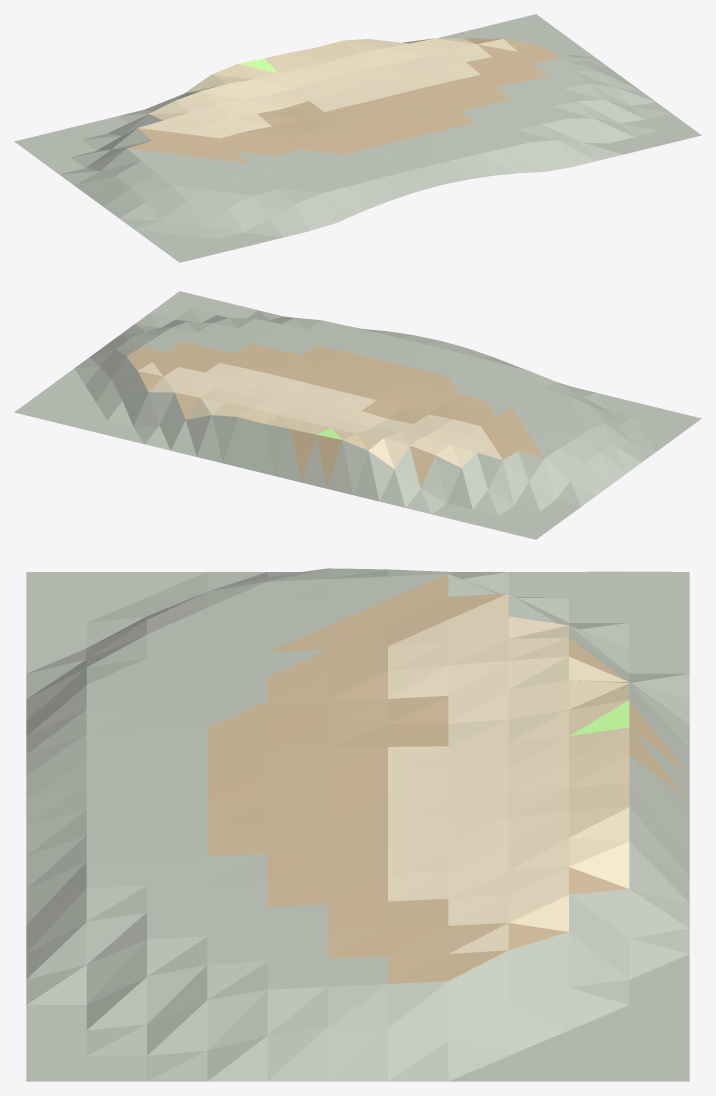
Rendered from beach_shore_far.glb.
3 renders of one model, top to bottom at view 1: azimuth 30°, elevation 25°; view 2: azimuth 150°, elevation 25°; view 3: azimuth 270°, elevation 25°, orthographic. The views are drawn at different scales.
Visible parts, largest first — view 1: beach_shore_far; view 2: beach_shore_far; view 3: beach_shore_far.
Part boxes in pixels (left/top/right/bottom): beach_shore_far: left=14, top=14, right=701, bottom=262; beach_shore_far: left=14, top=291, right=701, bottom=539; beach_shore_far: left=26, top=568, right=689, bottom=1081.
Bounding box in the file's own units: 128 × 8.89 × 70.4.
